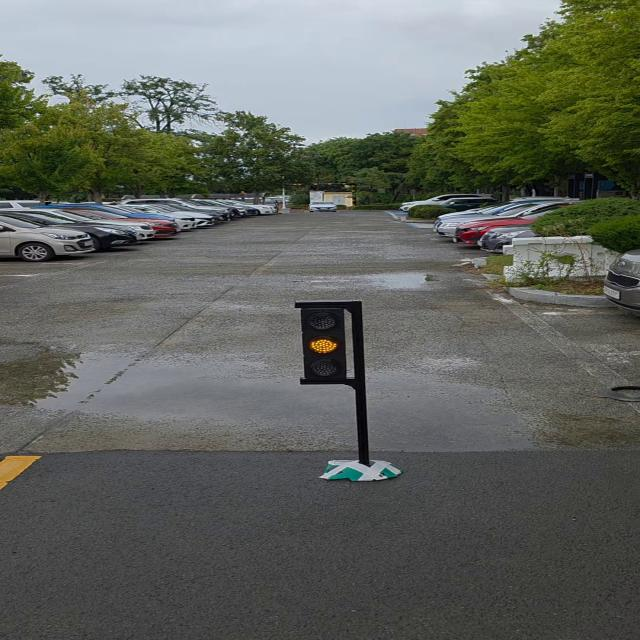yellow: (302, 304, 356, 383), (347, 382, 357, 383)
